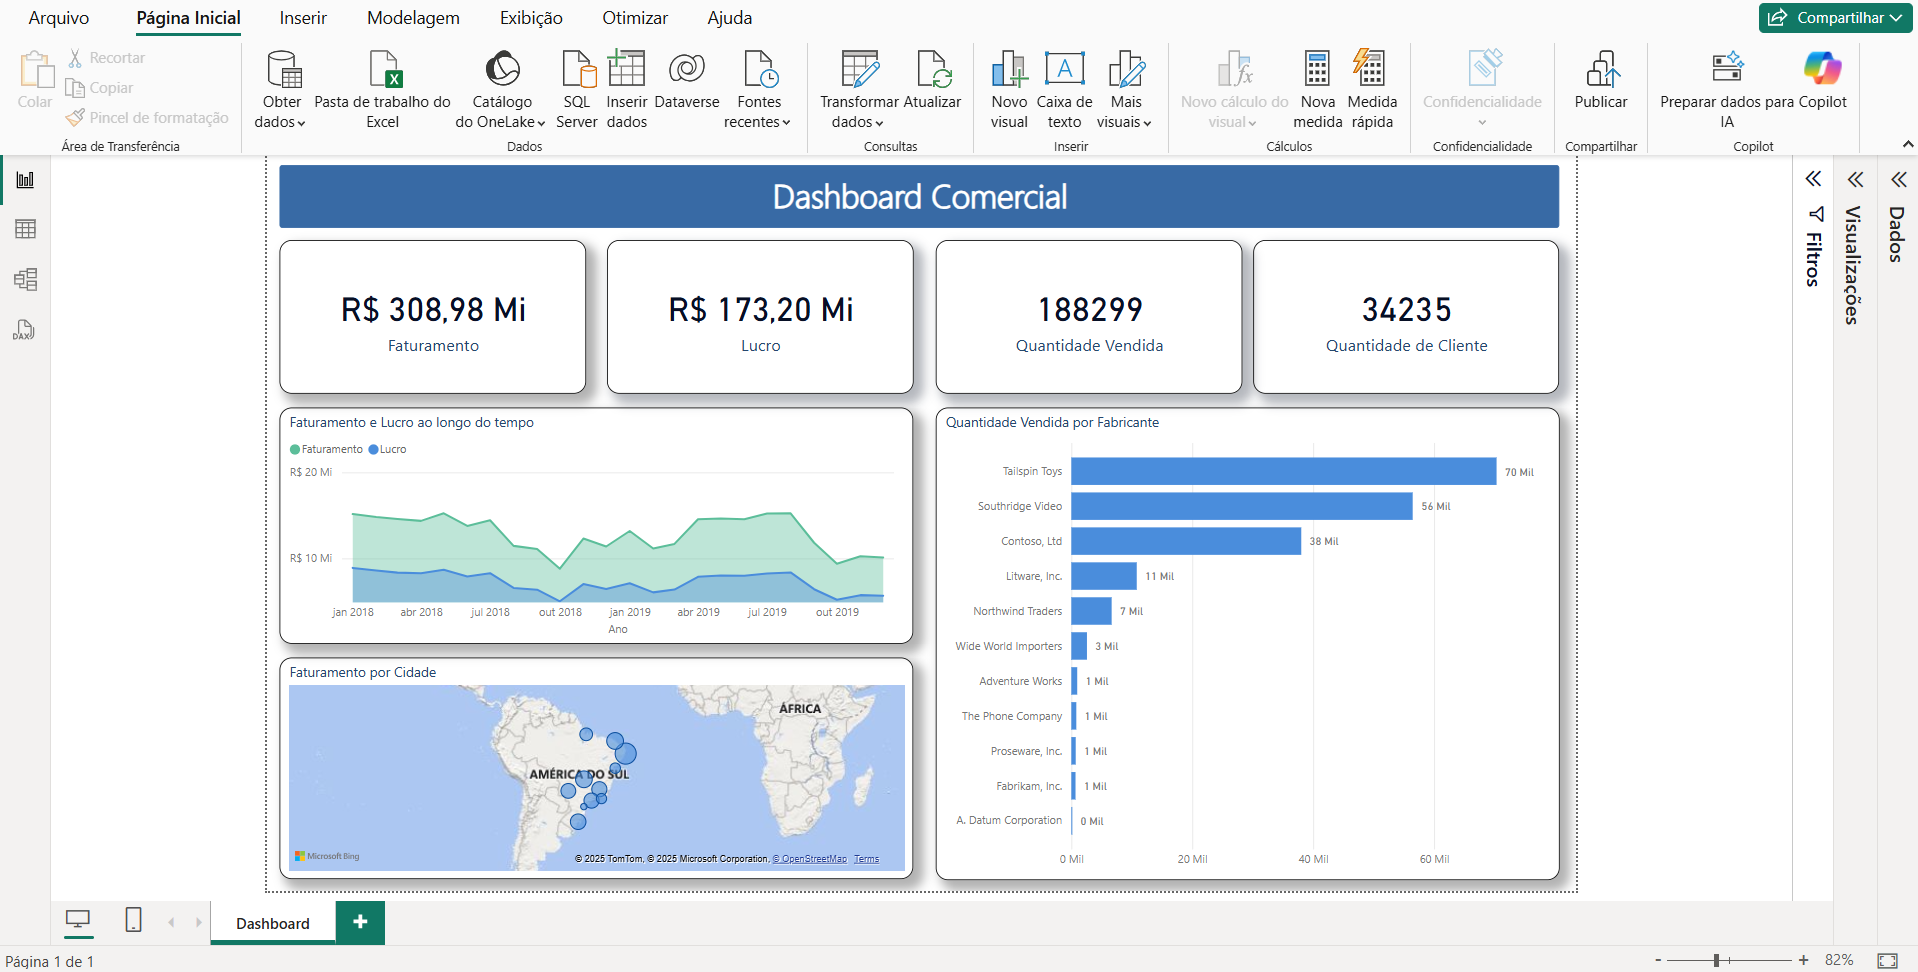

What the dashboard file says about the page in this screenshot:
{"tool":"powerbi","page":{"name":"Dashboard ","canvas":[1280,720],"ordinal":0},"visuals":[{"type":"textbox","box":[11.6,9.9,1251.9,61.8],"z":0},{"type":"card","title":"Faturamento","fields":{"Values":["Sum(BaseVendas.Faturamento)"]},"box":[12.2,83.2,300,150.4],"z":1000},{"type":"card","fields":{"Values":["Sum(BaseVendas.Lucro)"]},"box":[332.6,83.2,300,150.4],"z":2000},{"type":"card","fields":{"Values":["Sum(BaseVendas.Qtd. Vendida)"]},"box":[654.2,83.2,300,150.4],"z":3000},{"type":"card","title":"Contagem cliente","fields":{"Values":["Count(BaseVendas.Código Cliente)"]},"box":[964.8,83.2,299.6,150.4],"z":4000},{"type":"areaChart","title":"Faturamento e Lucro ao longo do tempo","fields":{"Category":["BaseVendas.Data Venda.Variation.Hierarquia de datas.Ano","BaseVendas.Data Venda.Variation.Hierarquia de datas.Mês"],"Y":["Sum(BaseVendas.Faturamento)","Sum(BaseVendas.Lucro)"]},"box":[12.2,247,620,231.1],"z":5000},{"type":"barChart","fields":{"Y":["Sum(BaseVendas.Qtd. Vendida)"],"Category":["BaseVendas.Fabricante"]},"box":[654.2,247,610.2,462.2],"z":6000},{"type":"map","fields":{"Category":["BaseVendas.Cidade"],"Size":["Sum(BaseVendas.Faturamento)"]},"box":[12,492,620,217],"z":7000}]}

Visuals, with their boxes on the page's 1280x720 design canvas (x1, y1, x2, y2). These are canvas units, not pixel positions in the 1918x972 screenshot, which may show the page scaled, cropped or inside an application window:
textbox: [x1=12, y1=10, x2=1264, y2=72]
"Faturamento" card: [x1=12, y1=83, x2=312, y2=234]
card - Sum(BaseVendas.Lucro): [x1=333, y1=83, x2=633, y2=234]
card - Sum(BaseVendas.Qtd. Vendida): [x1=654, y1=83, x2=954, y2=234]
"Contagem cliente" card: [x1=965, y1=83, x2=1264, y2=234]
"Faturamento e Lucro ao longo do tempo" areaChart: [x1=12, y1=247, x2=632, y2=478]
barChart - Sum(BaseVendas.Qtd. Vendida) x BaseVendas.Fabricante: [x1=654, y1=247, x2=1264, y2=709]
map - BaseVendas.Cidade x Sum(BaseVendas.Faturamento): [x1=12, y1=492, x2=632, y2=709]
